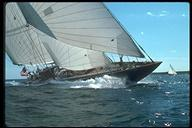sailboat: (6, 3, 164, 87), (167, 63, 178, 76)
sky: (153, 5, 188, 59)
water: (6, 88, 188, 124)
